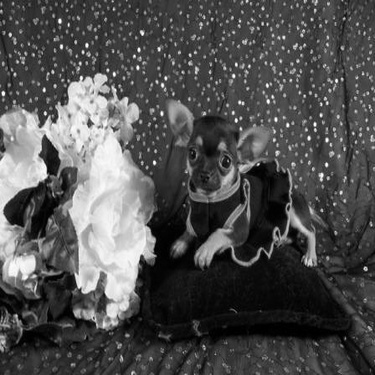dog: (135, 95, 340, 274)
